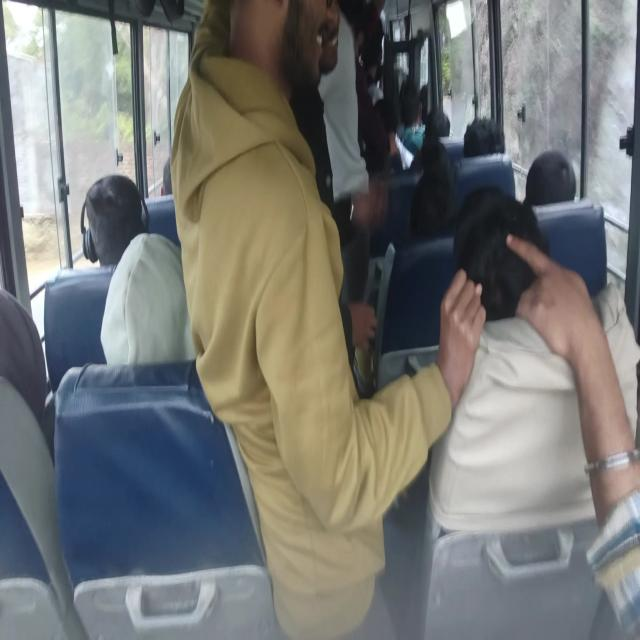person: (448, 195, 638, 627), (0, 282, 92, 629), (174, 8, 306, 232), (100, 233, 190, 365), (380, 228, 462, 369), (0, 287, 48, 429), (84, 176, 148, 256), (455, 152, 516, 205), (524, 148, 577, 206), (408, 173, 452, 241), (373, 93, 406, 172), (462, 118, 508, 160), (422, 108, 452, 146)
